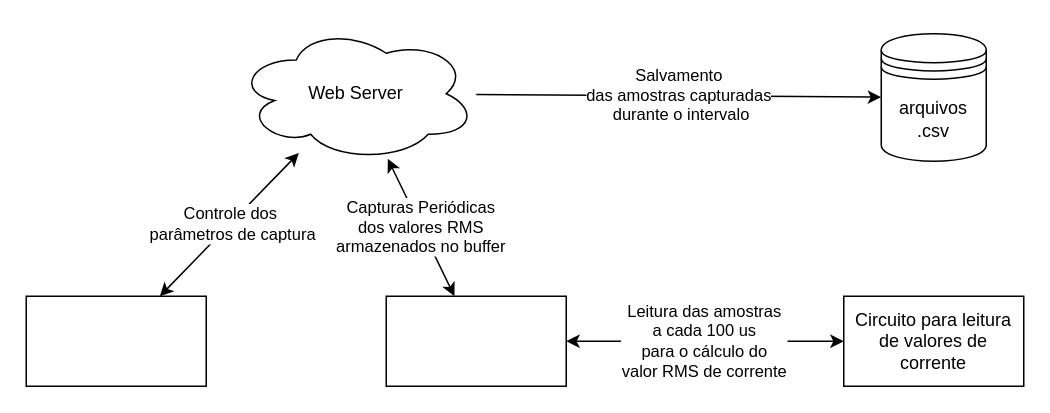
Some shapes in this 1050 by 413 pixel diagram are drawn without their labels. The shapes that lost their labels are listed below. From the top down, each one's centre as x and y in pixels, then its label:
At point (115, 340): "Pagina Web para controle da API".
At point (475, 340): "ESP32".
